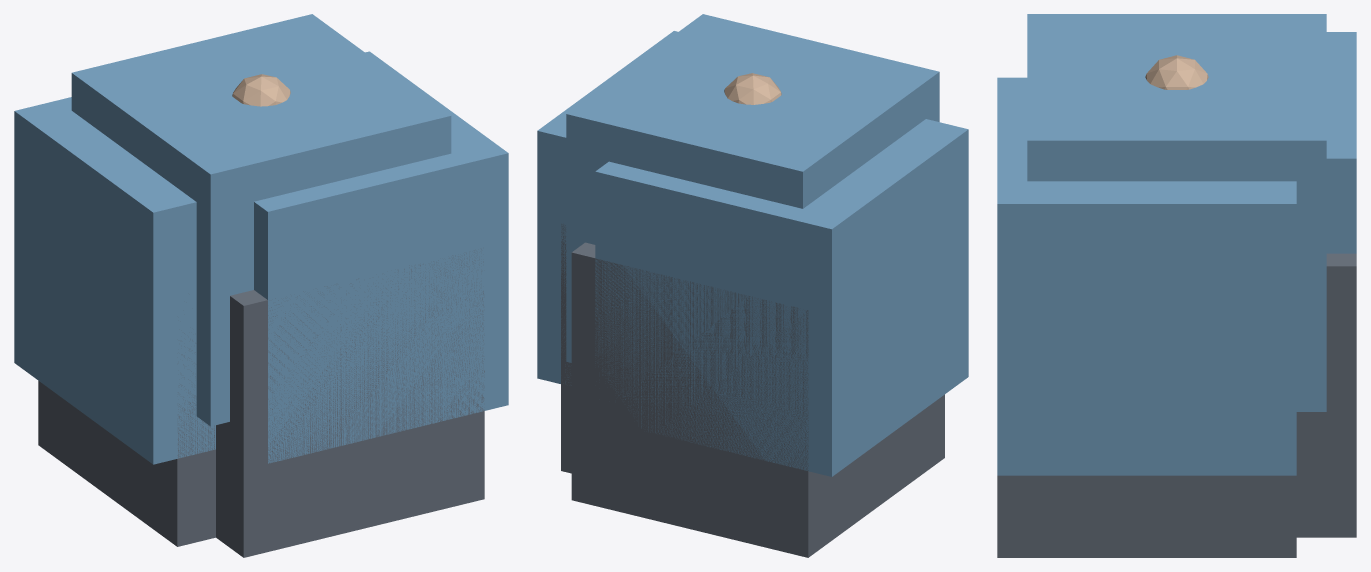
The model's file is hum_pedestrian_blue.glb.
3 views of the same model, side by side, from view 1: azimuth 30°, elevation 25°; view 2: azimuth 150°, elevation 25°; view 3: azimuth 270°, elevation 25° (orthographic). The views are drawn at different scales.
Visible parts, largest first — view 1: world; view 2: world; view 3: world.
Boxes of the visible parts, bbox=[...] form: world: bbox=[14, 14, 508, 557]; world: bbox=[537, 14, 968, 557]; world: bbox=[997, 14, 1356, 557].
Bounding box in the file's own units: 1.36 × 1.57 × 1.2.
